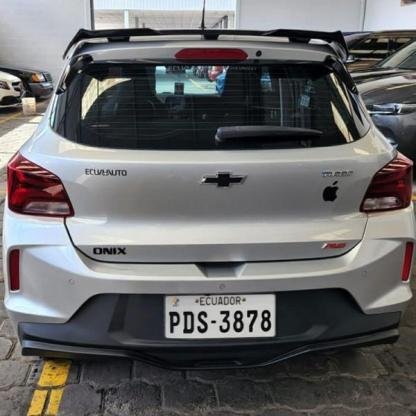Placa: (164, 296, 275, 340)
